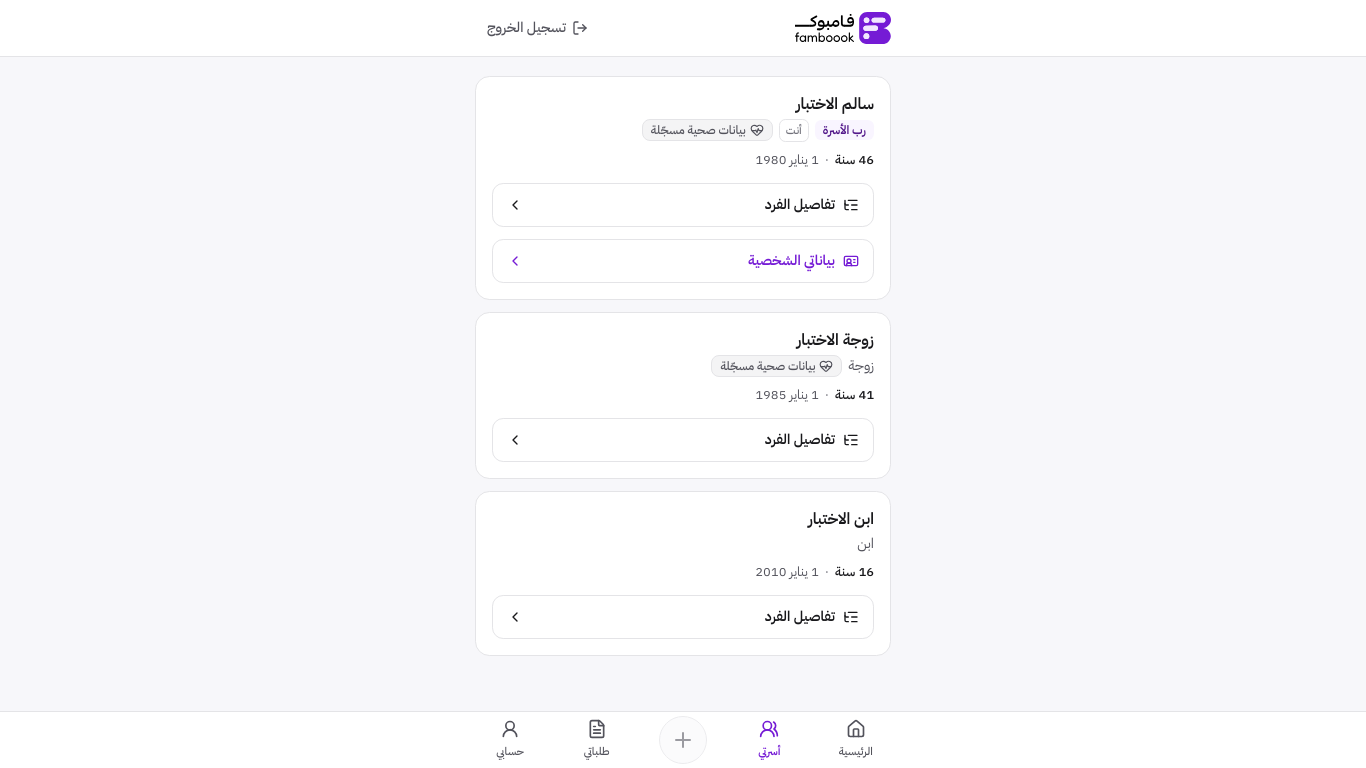
Test: the member sheet «الحالة الصحية» › says exactly that nothing is registered for a member without records — never that they are healthy
The width and height of the screenshot is (1366, 768).
(page scrolled)
Click the button "تفاصيل الفرد" below "ابن الاختبار". click: (800, 616)
box: [492, 594, 874, 638]
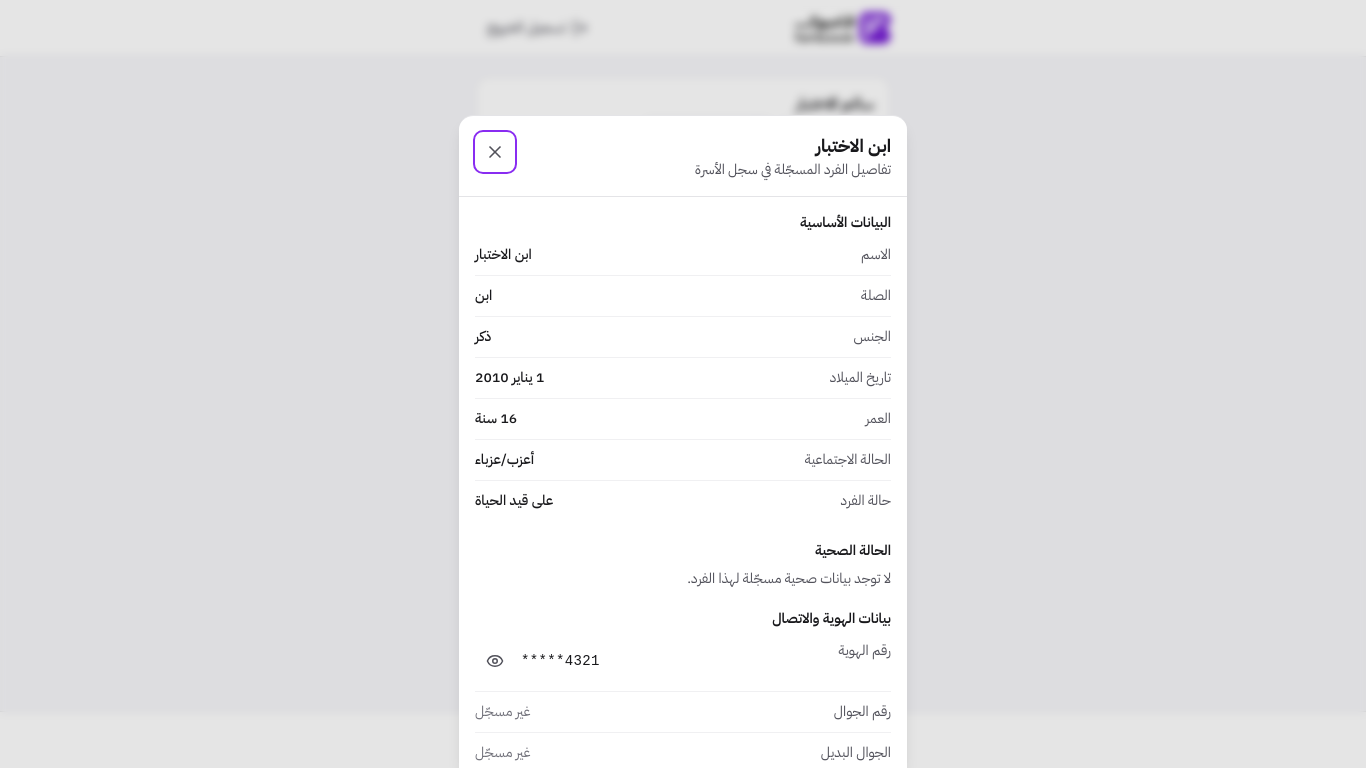
Expected: the element showing "الحالة الصحية لا توجد بيانات صحية مسجّلة لهذا الفرد." does not show "سليم", [687, 540, 891, 589]
Expected: the text "لا توجد بيانات صحية مسجّلة لهذا الفرد." is shown, [687, 568, 891, 589]
